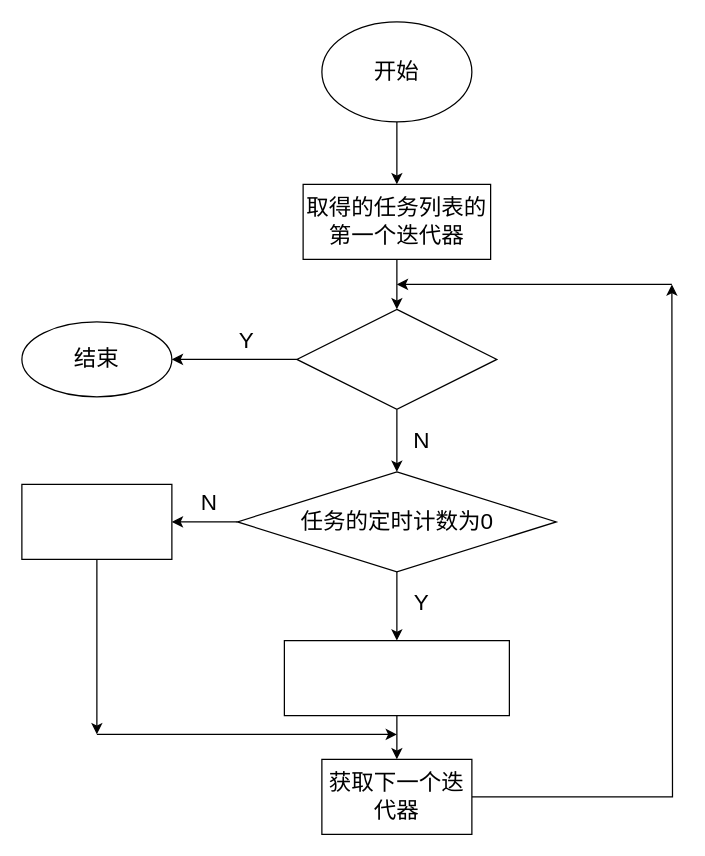
Image size: 705x856. Some labels were removed from this diagram. Here are the shapes that lost their labels. From the top down, the centre of each, then its label:
At [396,358]: "是尾后迭代器".
At [96,521]: "递减定时计数".
At [396,677]: "回调任务并将定时计数恢复为定时时间".
